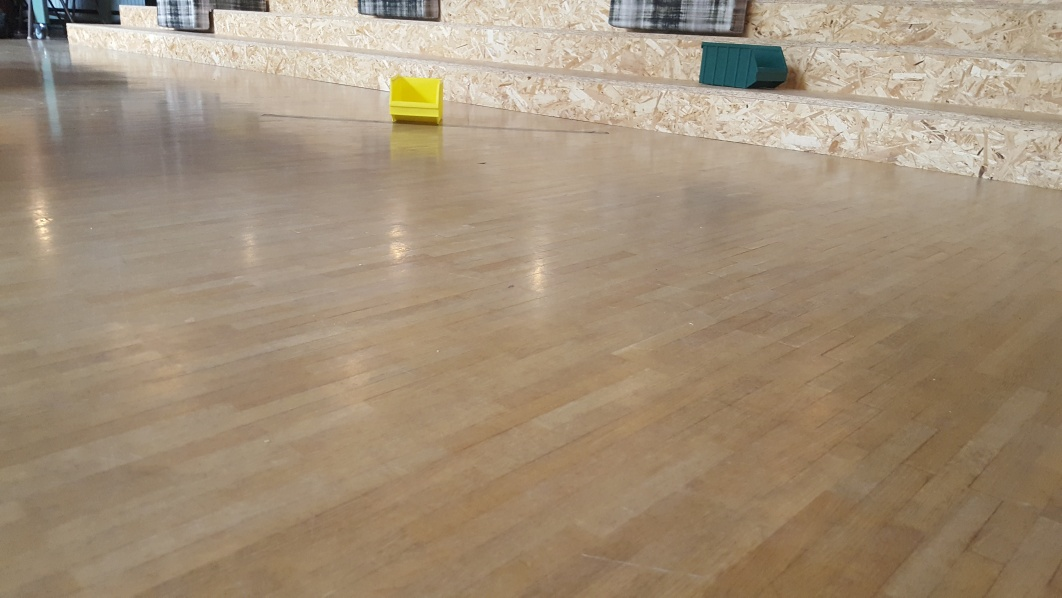tray: (694, 35, 793, 97), (388, 68, 445, 132)
